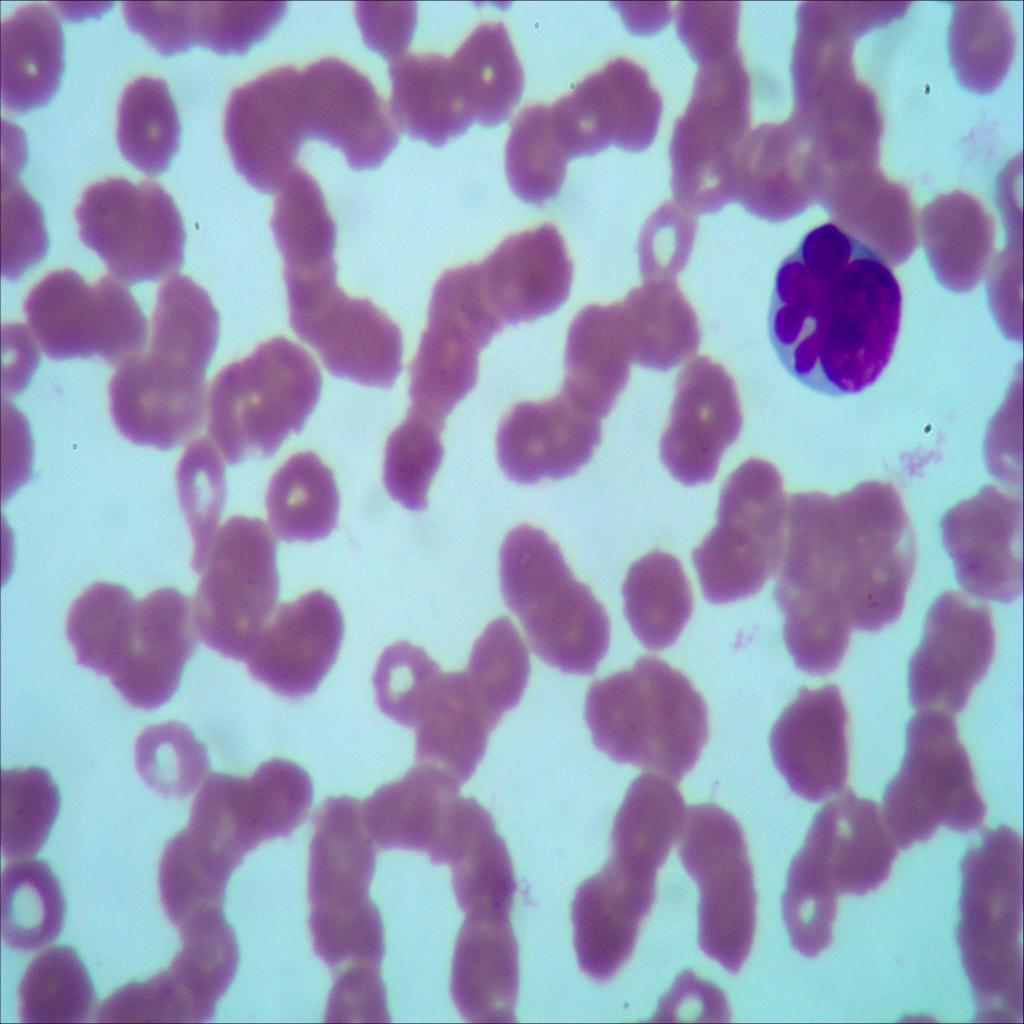Limfoblast: (754, 201, 913, 410)
